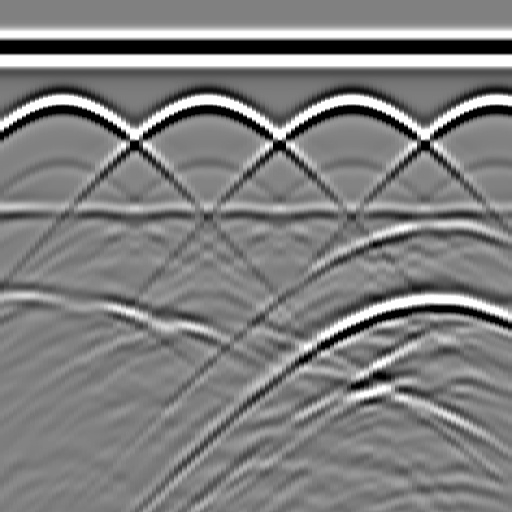grout_surface: (1, 198, 512, 228)
rebar: (41, 84, 81, 124), (185, 84, 225, 124), (329, 84, 369, 124), (473, 84, 512, 124)
rock_surface: (1, 292, 511, 393)
water_void: (402, 204, 462, 244)
